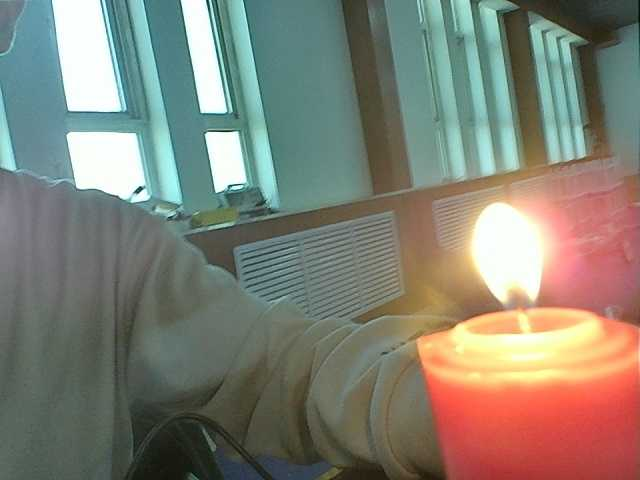candle: (410, 307, 640, 480)
fire: (454, 188, 564, 344)
